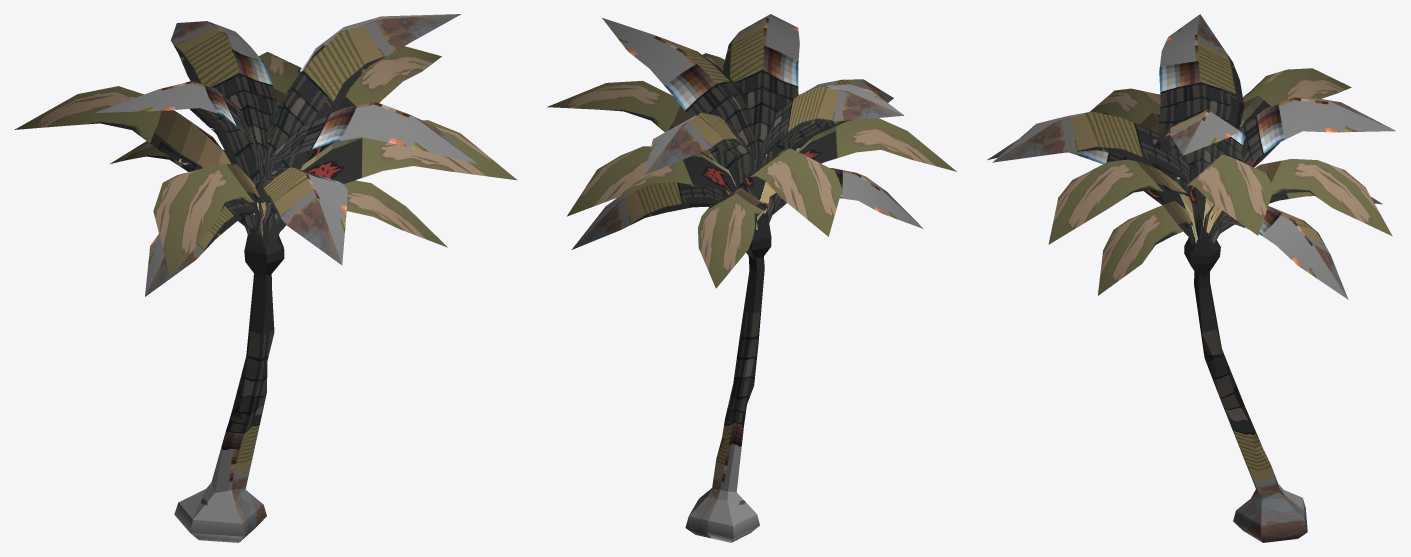
The model's file is jungle_SM_Env_Tree_Banana_02.gltf.
3 views of the same model, side by side, from view 1: azimuth 30°, elevation 25°; view 2: azimuth 150°, elevation 25°; view 3: azimuth 270°, elevation 25° (orthographic). The views are drawn at different scales.
Parts seen in each view (by area): view 1: SM_Env_Tree_Banana_02_LOD0; view 2: SM_Env_Tree_Banana_02_LOD0; view 3: SM_Env_Tree_Banana_02_LOD0.
Boxes of the visible parts, x1=… form: SM_Env_Tree_Banana_02_LOD0: x1=14, y1=14, x2=517, y2=542; SM_Env_Tree_Banana_02_LOD0: x1=547, y1=14, x2=956, y2=542; SM_Env_Tree_Banana_02_LOD0: x1=987, y1=14, x2=1395, y2=542.
Size of what is drawn, in the model's own units: 4.94 by 6.41 by 5.09.
1 material, 1 textured.
